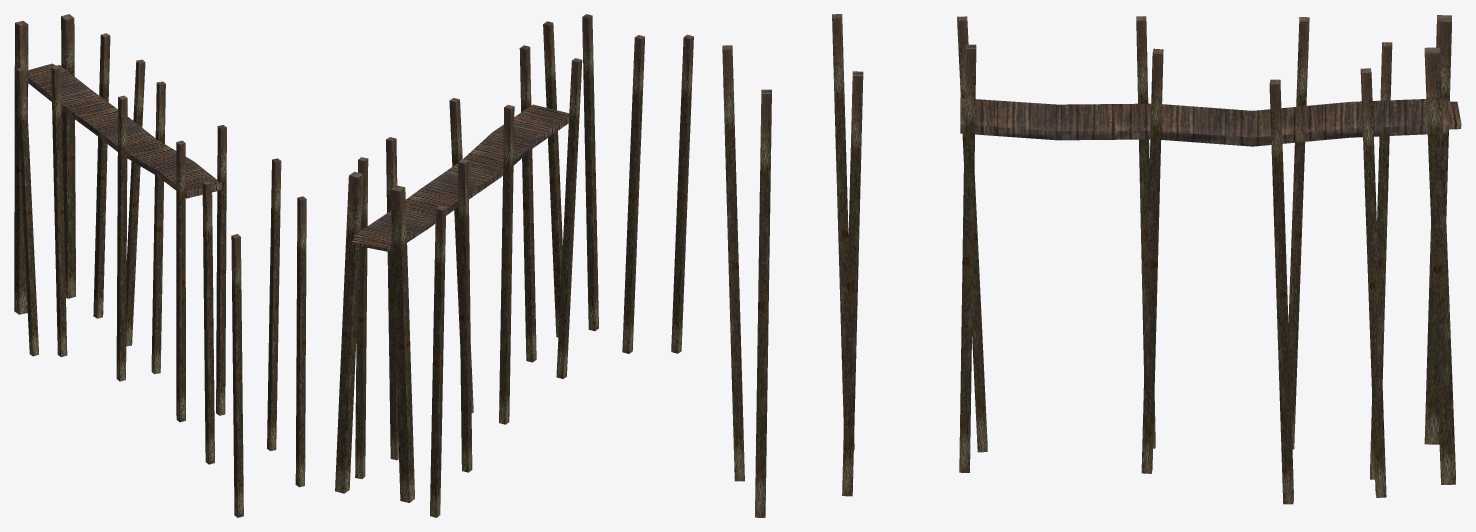
The model's file is PWalk02.glb.
The picture shows the model from 3 angles, left to right: view 1: azimuth 30°, elevation 25°; view 2: azimuth 150°, elevation 25°; view 3: azimuth 270°, elevation 25°; orthographic projection. The views are drawn at different scales.
Visible parts, largest first — view 1: _PWalk02; view 2: _PWalk02; view 3: _PWalk02.
Boxes of the visible parts, x1,y1,x2,y2 form: _PWalk02: (14, 14, 306, 517); _PWalk02: (335, 14, 693, 517); _PWalk02: (722, 14, 1461, 517).
Bounding box in the file's own units: 3 × 9.72 × 13.65.
3 materials, 3 textured.
